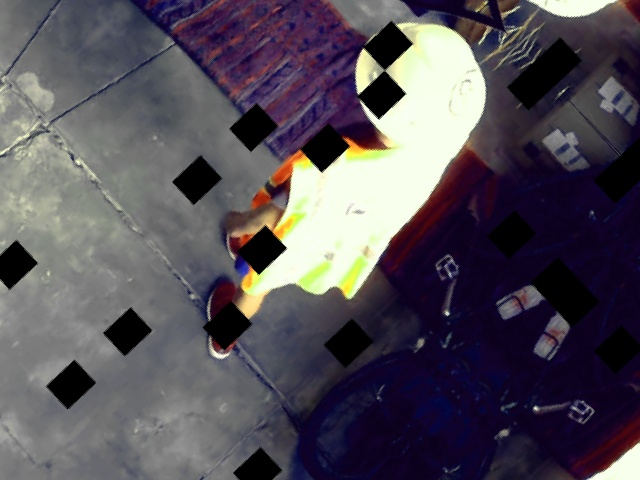eight: (436, 64, 494, 122)
